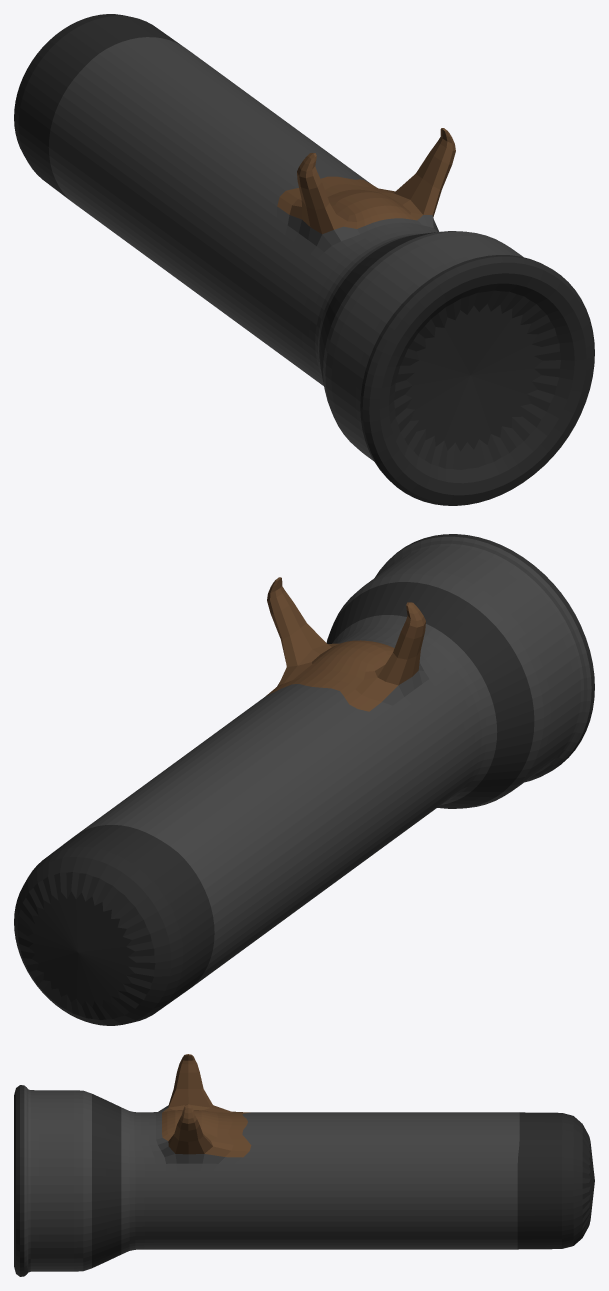
File: Flashlight.fbx
3 views of the same model, one above another, from view 1: azimuth 30°, elevation 25°; view 2: azimuth 150°, elevation 25°; view 3: azimuth 270°, elevation 25° (orthographic). The views are drawn at different scales.
Parts seen in each view (by area): view 1: Cylinder; view 2: Cylinder; view 3: Cylinder.
Boxes of the visible parts, box(x1,y1,x2,y2) form: Cylinder: box(14, 14, 594, 505); Cylinder: box(14, 534, 594, 1025); Cylinder: box(14, 1054, 594, 1276).
Bounding box in the file's own units: 119 × 135 × 359.
